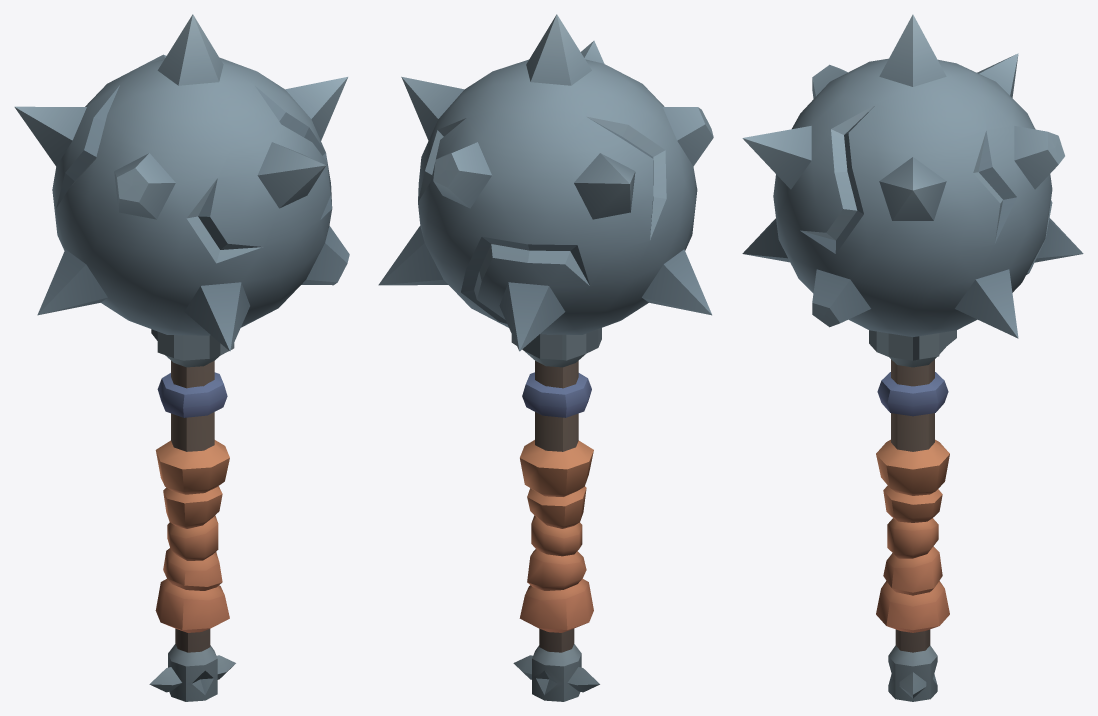
File: Skeleton_Mace.glb
3 views of the same model, side by side, from view 1: azimuth 30°, elevation 25°; view 2: azimuth 150°, elevation 25°; view 3: azimuth 270°, elevation 25° (orthographic).
Visible parts, largest first — view 1: Skeleton_Mace; view 2: Skeleton_Mace; view 3: Skeleton_Mace.
Part boxes in pixels (x1,y1,x2,y2): Skeleton_Mace: [14, 14, 349, 701]; Skeleton_Mace: [378, 14, 713, 701]; Skeleton_Mace: [742, 14, 1083, 701].
Size of the model in its own units: 0.7897 by 1.66 by 0.751.
1 material, 1 textured.
